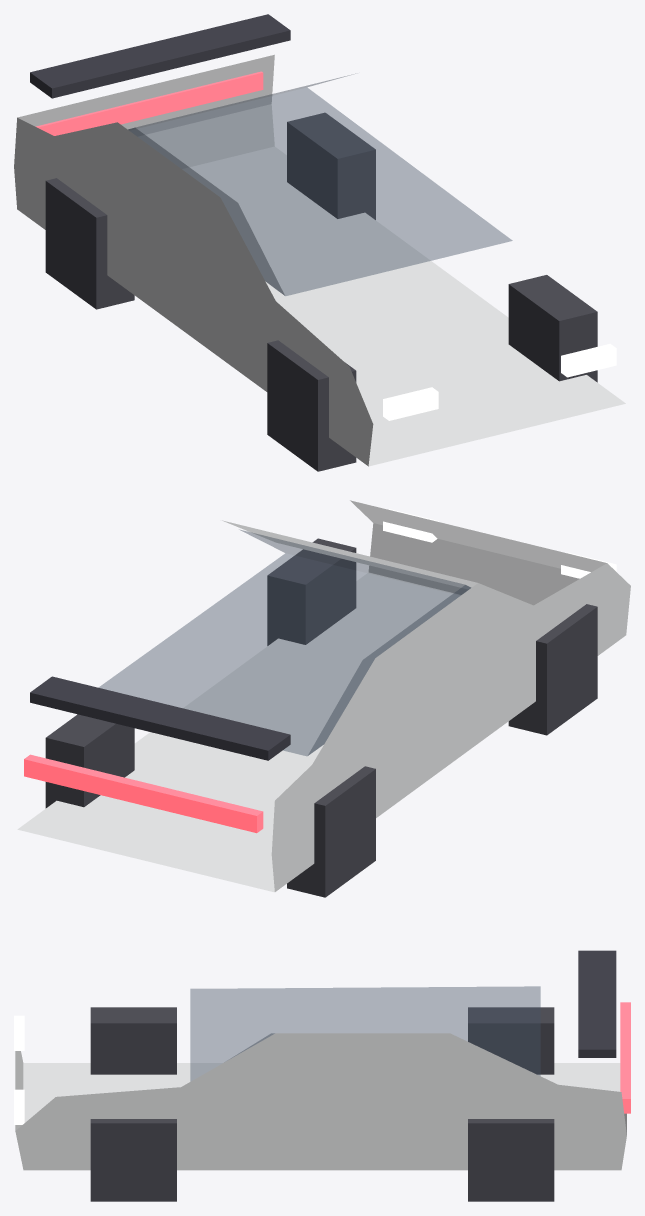
Rendered from civic.glb.
The picture shows the model from 3 angles, top to bottom: view 1: azimuth 30°, elevation 25°; view 2: azimuth 150°, elevation 25°; view 3: azimuth 270°, elevation 25°; orthographic projection. The views are drawn at different scales.
Parts seen in each view (by area): view 1: sedan_body, cabin_glass, spoiler, wheel_3, wheel_2, wheel_0, wheel_1, taillight, headlight_R, headlight_L; view 2: sedan_body, cabin_glass, spoiler, wheel_1, wheel_0, wheel_2, taillight, wheel_3, headlight_R; view 3: sedan_body, cabin_glass, wheel_1, wheel_3, wheel_0, wheel_2, spoiler, taillight, headlight_L, headlight_R.
Boxes of the visible parts, bbox=[...] form: sedan_body: bbox=[14, 54, 625, 466]; cabin_glass: bbox=[128, 75, 512, 295]; spoiler: bbox=[30, 14, 290, 98]; wheel_3: bbox=[287, 112, 375, 219]; wheel_2: bbox=[45, 178, 134, 309]; wheel_0: bbox=[267, 340, 356, 471]; wheel_1: bbox=[508, 275, 597, 382]; taillight: bbox=[35, 71, 263, 135]; headlight_R: bbox=[561, 343, 616, 377]; headlight_L: bbox=[383, 387, 438, 420]; sedan_body: bbox=[17, 500, 630, 892]; cabin_glass: bbox=[99, 530, 470, 755]; spoiler: bbox=[30, 676, 290, 760]; wheel_1: bbox=[267, 538, 356, 645]; wheel_0: bbox=[508, 604, 597, 735]; wheel_2: bbox=[287, 766, 375, 897]; taillight: bbox=[24, 754, 263, 833]; wheel_3: bbox=[45, 714, 134, 808]; headlight_R: bbox=[383, 509, 438, 542]; sedan_body: bbox=[15, 1033, 626, 1170]; cabin_glass: bbox=[190, 986, 540, 1081]; wheel_1: bbox=[90, 1119, 176, 1201]; wheel_3: bbox=[468, 1119, 554, 1201]; wheel_0: bbox=[90, 1007, 176, 1074]; wheel_2: bbox=[468, 1007, 554, 1074]; spoiler: bbox=[578, 950, 616, 1057]; taillight: bbox=[620, 1002, 630, 1113]; headlight_L: bbox=[14, 1015, 24, 1050]; headlight_R: bbox=[14, 1089, 24, 1124].
Bounding box in the file's own units: 2.04 × 1.34 × 4.58.
